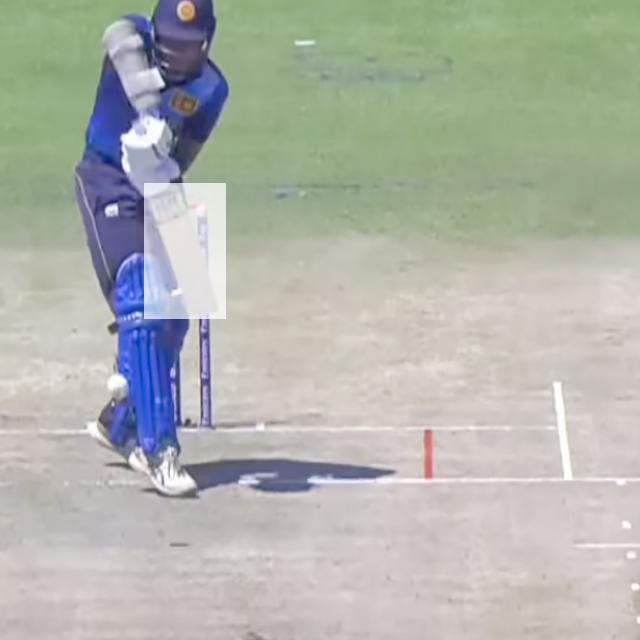bat: (143, 183, 227, 320)
